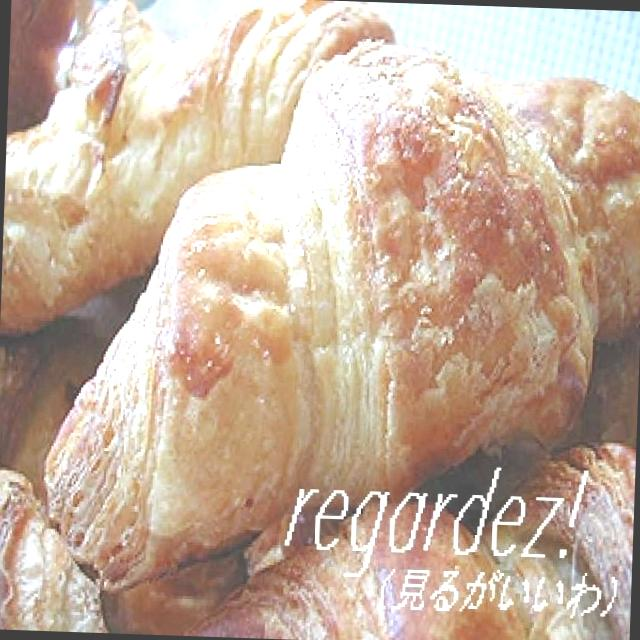Croissant: (68, 39, 640, 500)
